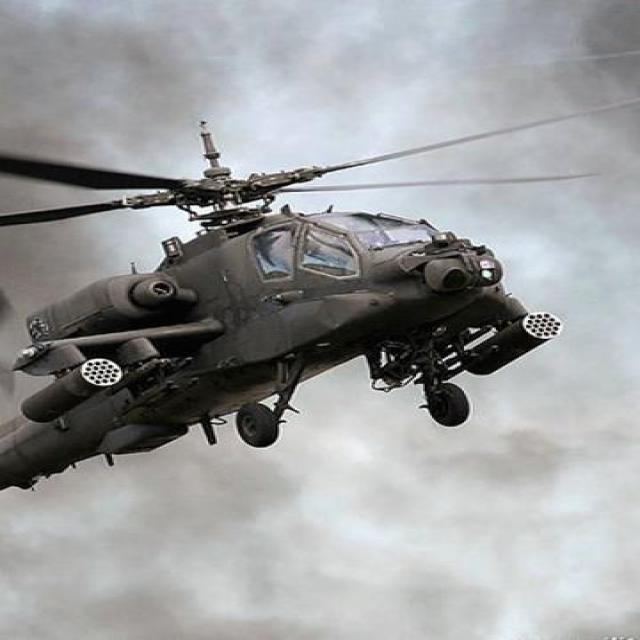MIL_HELO: (0, 106, 640, 498)
